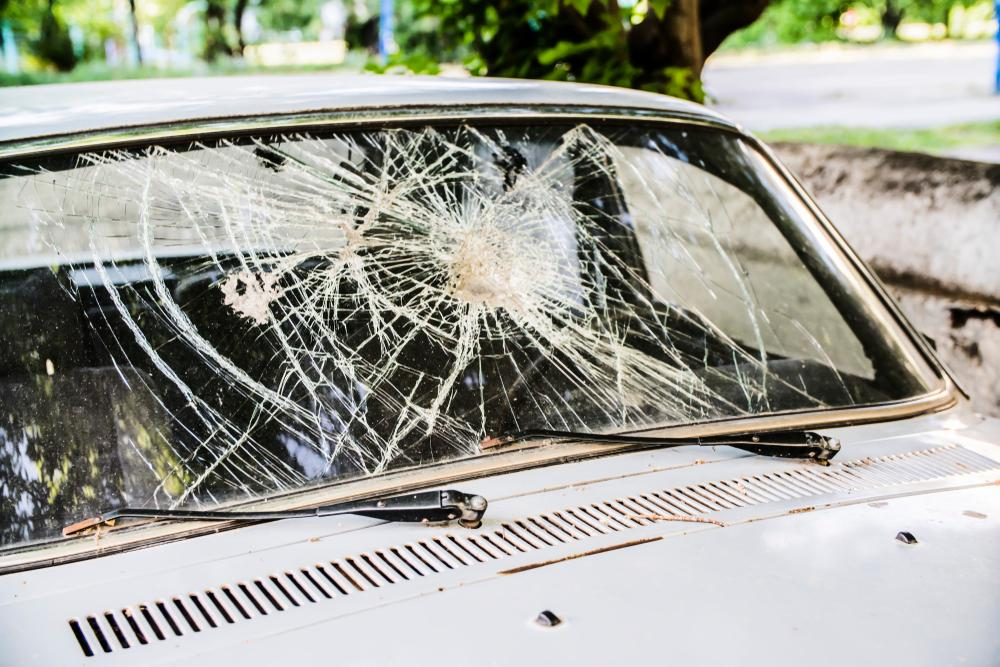glass shatter: (0, 115, 942, 556)
